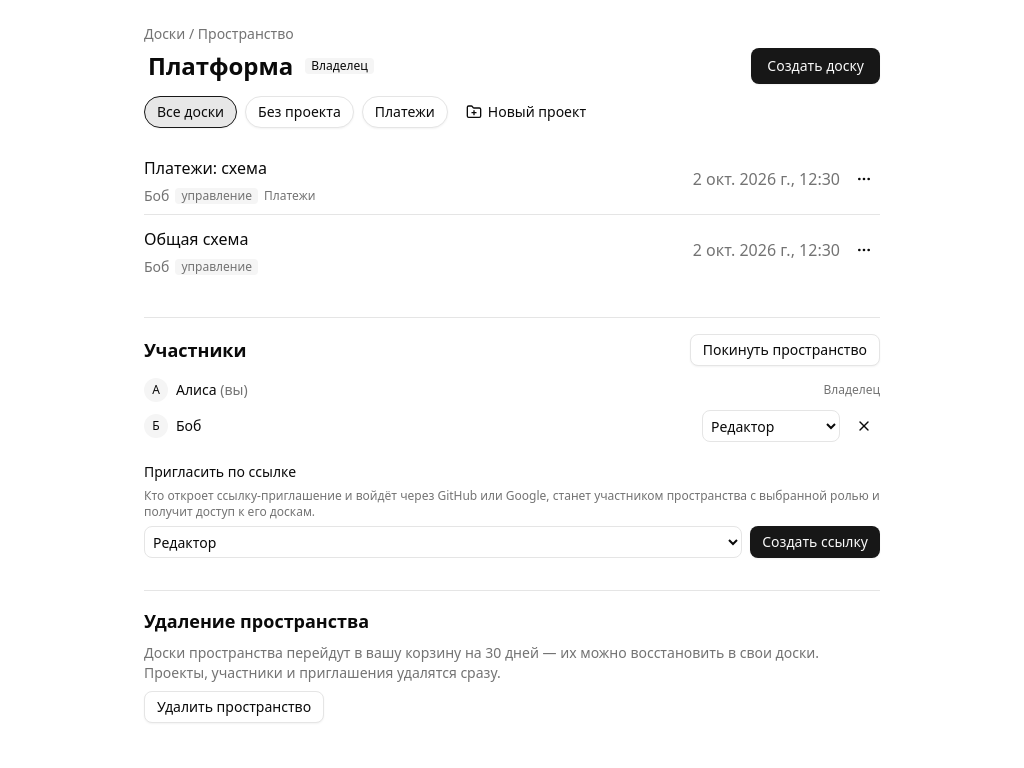
Test: WorkspacePage › shows the boards of the workspace and those of a chosen project
expect the heading "Платформа" is shown: met, box [144,50,297,82]
expect the links read "Платежи: схема", "Общая схема", in this order: met, box [144,157,267,179]; [144,228,248,250]
Click the button "Платежи" at (405, 112), box [362,96,448,128]
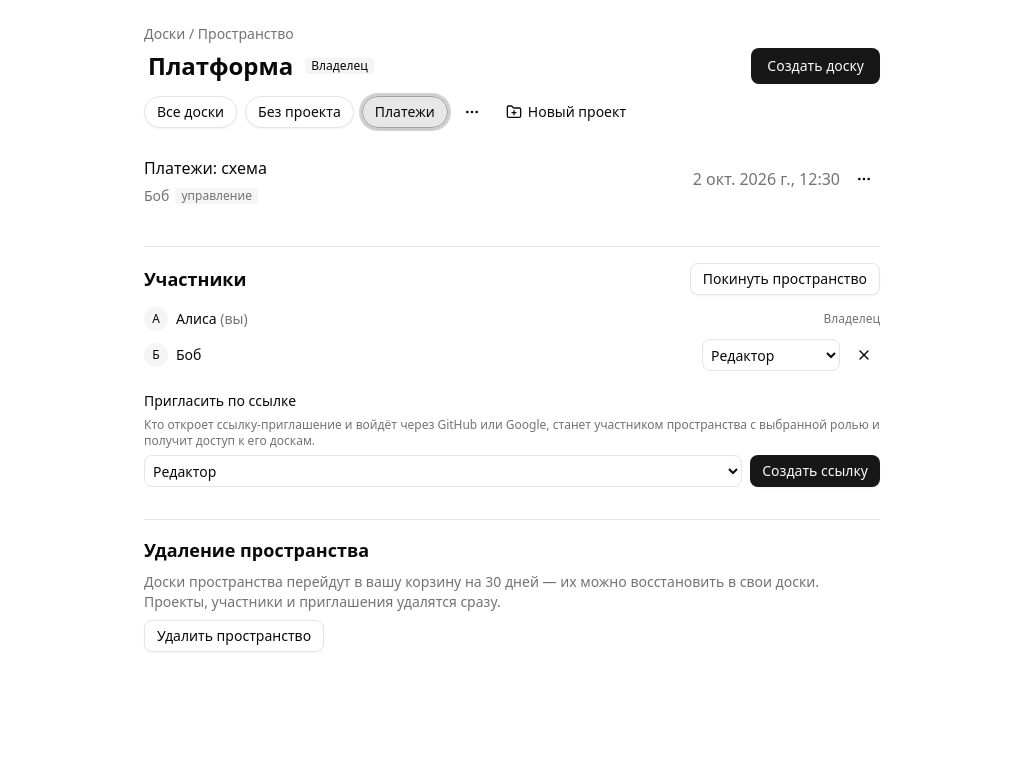
expect the links read "Платежи: схема", in this order: met, box [144,157,267,179]
Click the button "Без проекта" at (299, 112), box [245,96,354,128]
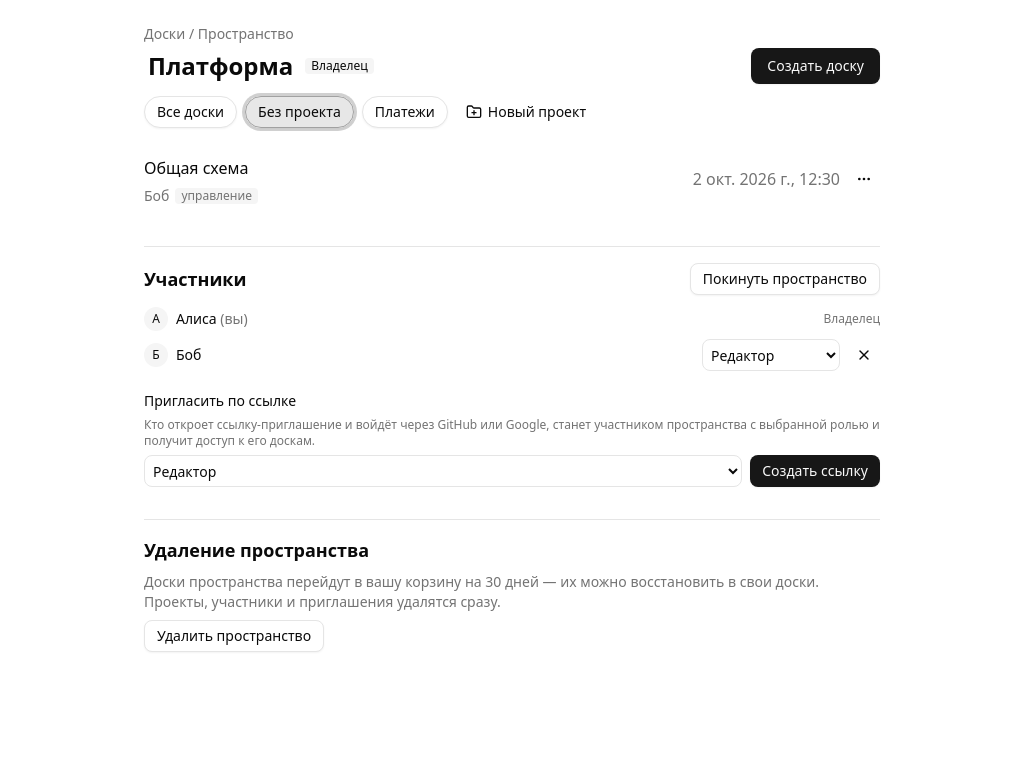
expect the links read "Общая схема", in this order: met, box [144,157,248,179]
